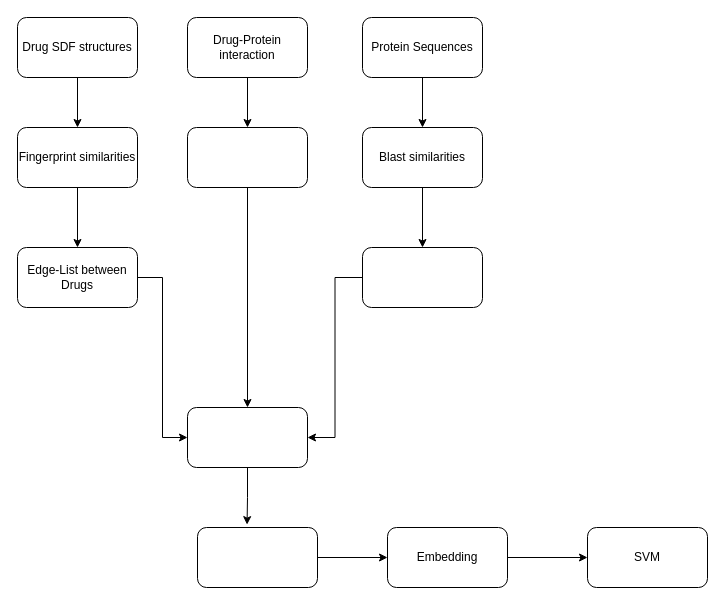
Some shapes in this 725 by 605 pixel diagram are drawn without their labels. Each missing label, with the box of its shape:
DeepWalk: (196, 526, 318, 588)
Edge-List: (186, 126, 308, 188)
Edge-List between Proteins: (362, 246, 482, 308)
GRAPH: (186, 406, 308, 468)
